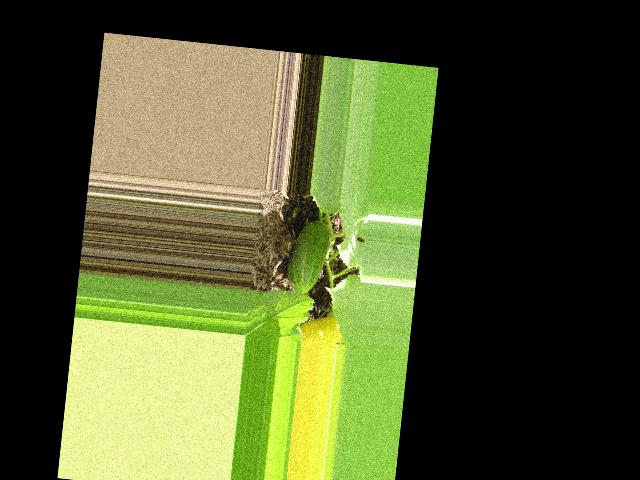cucumber: (284, 217, 332, 295)
